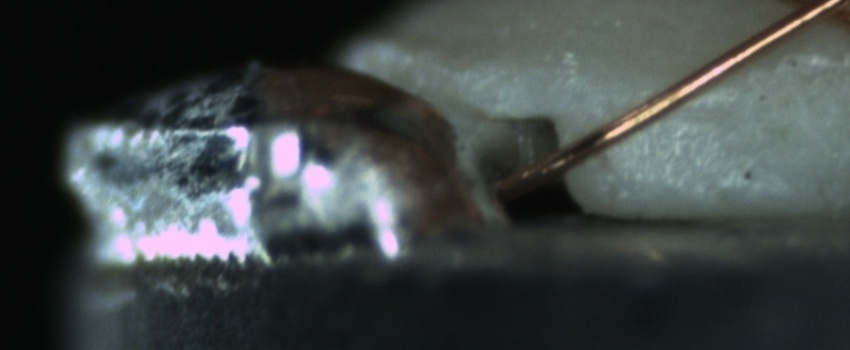CL: (773, 0, 849, 31)
